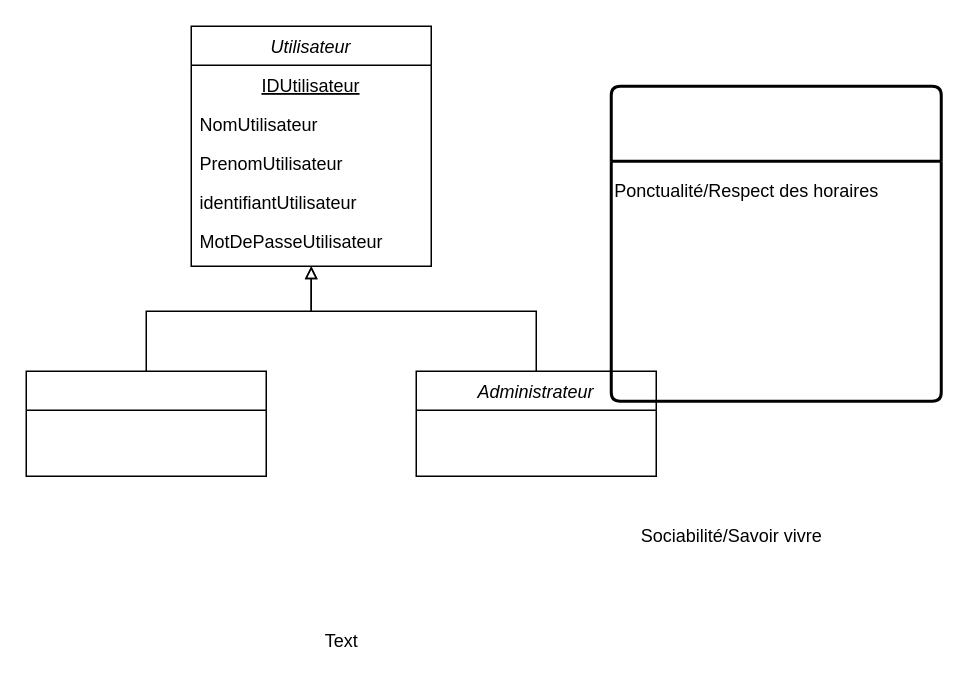
The diagram is 969 pixels wide and 690 high, and some of its shapes have lost their labels. Each missing label, with the box of its shape:
Employé: (25, 370, 266, 476)
Evalue: (609, 84, 942, 402)
